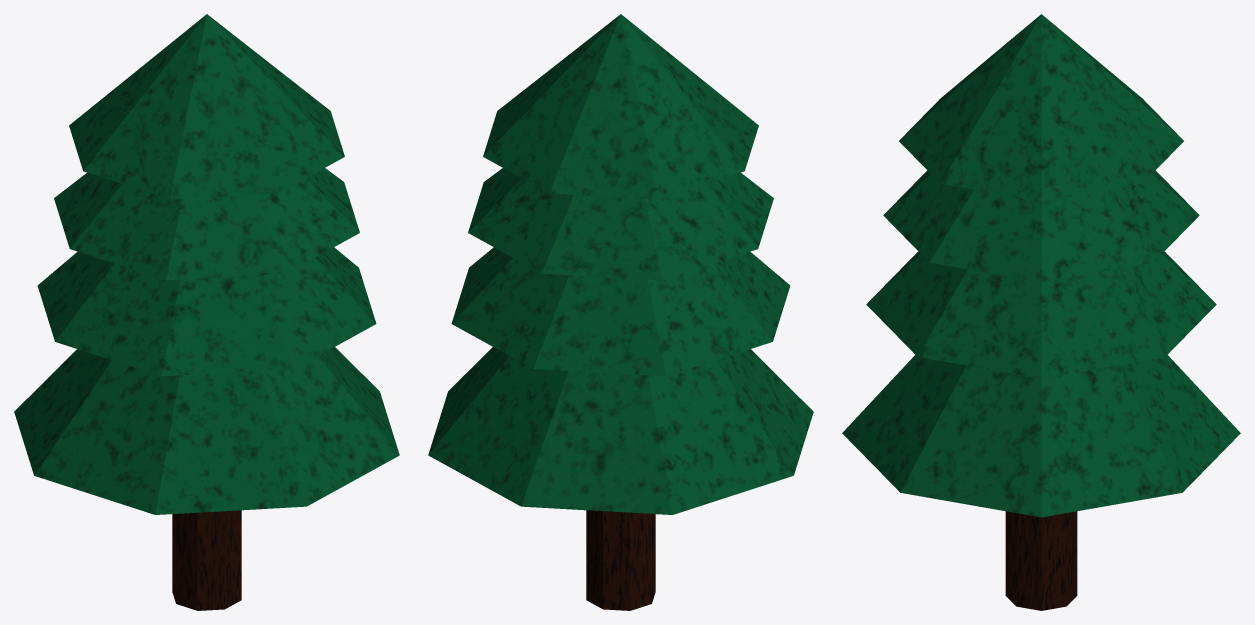
The model's file is Tree.fbx.
The picture shows the model from 3 angles, left to right: view 1: azimuth 30°, elevation 25°; view 2: azimuth 150°, elevation 25°; view 3: azimuth 270°, elevation 25°; orthographic projection.
Parts seen in each view (by area): view 1: Leaves, Trunk; view 2: Leaves, Trunk; view 3: Leaves, Trunk.
Boxes of the visible parts, x1=… form: Leaves: x1=14, y1=14, x2=399, y2=514; Trunk: x1=172, y1=510, x2=241, y2=610; Leaves: x1=428, y1=14, x2=813, y2=514; Trunk: x1=586, y1=510, x2=655, y2=610; Leaves: x1=842, y1=14, x2=1240, y2=517; Trunk: x1=1005, y1=511, x2=1077, y2=610.
Bounding box in the file's own units: 279 × 450 × 279.
